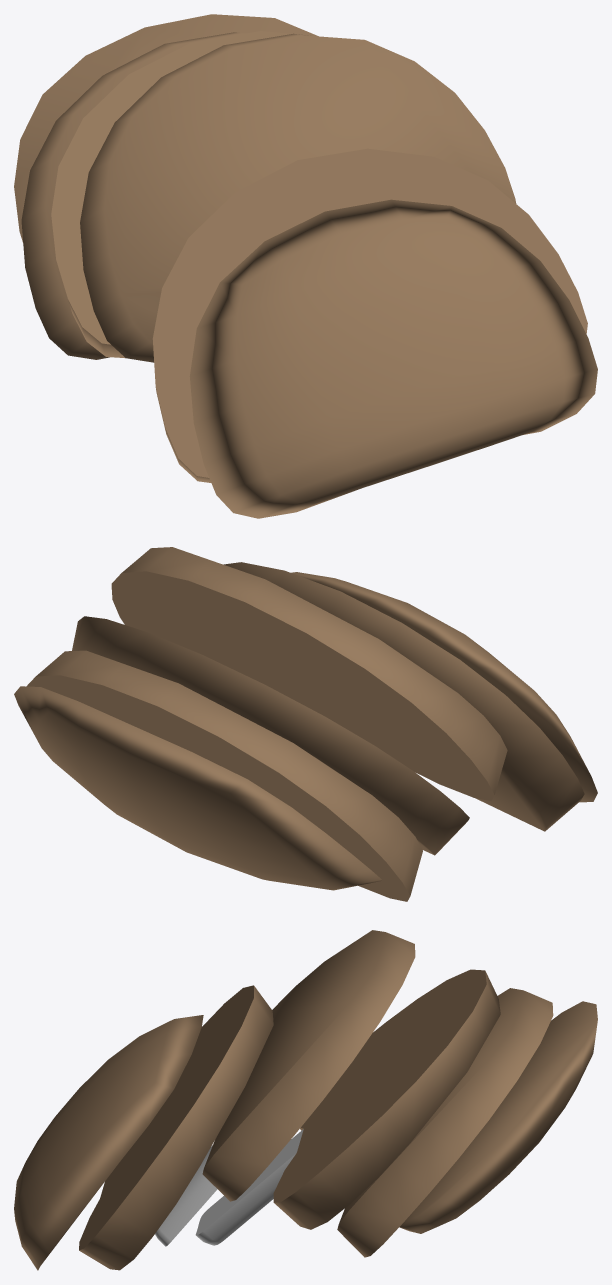
File: MushroomsChopped.glb
3 views of the same model, one above another, from view 1: azimuth 30°, elevation 25°; view 2: azimuth 150°, elevation 25°; view 3: azimuth 270°, elevation 25° (orthographic). The views are drawn at different scales.
Parts seen in each view (by area): view 1: Mushroom8.001, Mushroom8.004, Mushroom8.006, Mushroom8.002, Mushroom8.005, Mushroom8.007; view 2: Mushroom8.004, Mushroom8.007, Mushroom8.005, Mushroom8.002, Mushroom8.006, Mushroom8.001; view 3: Mushroom8.002, Mushroom8.004, Mushroom8.006, Mushroom8.001, Mushroom8.005, Mushroom8.007.
Part boxes in pixels (x1,y1,x2,y2): Mushroom8.001: (189,199,597,518); Mushroom8.004: (80,33,516,362); Mushroom8.006: (152,148,587,482); Mushroom8.002: (51,31,315,358); Mushroom8.005: (21,32,245,359); Mushroom8.007: (14,14,318,242); Mushroom8.004: (111,547,507,800); Mushroom8.007: (14,686,381,890); Mushroom8.005: (26,650,422,901); Mushroom8.002: (72,616,469,855); Mushroom8.006: (223,562,584,831); Mushroom8.001: (291,572,597,802); Mushroom8.002: (195,969,500,1245); Mushroom8.004: (155,930,415,1246); Mushroom8.006: (79,985,273,1270); Mushroom8.001: (14,1015,203,1270); Mushroom8.005: (337,988,553,1257); Mushroom8.007: (399,1001,597,1233).
Size of the model in its own units: 0.1243 by 0.0898 by 0.1606.
